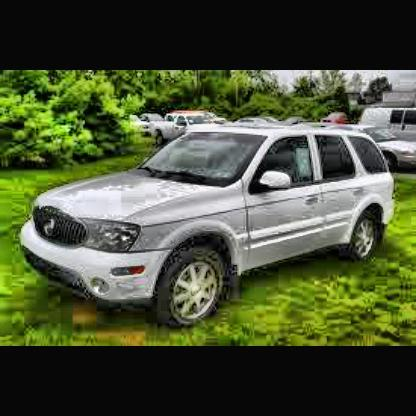Buick Rainier SUV 2007: (23, 123, 396, 325)
